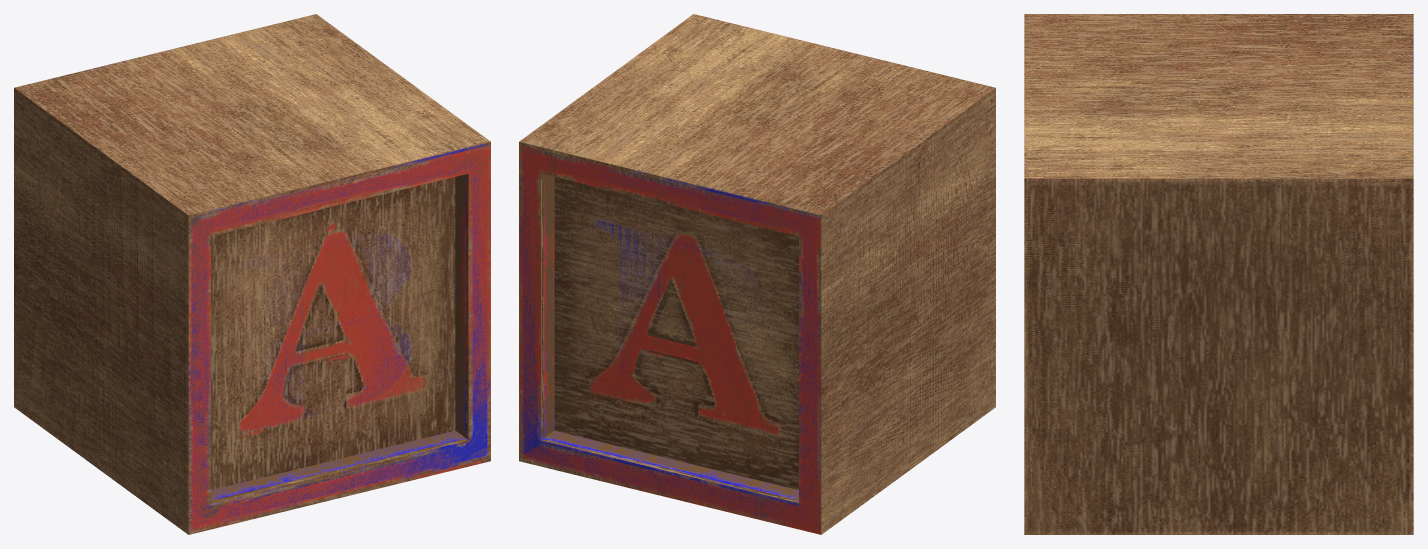
File: Letter Blocks.fbx
3 renders of one model, left to right at view 1: azimuth 30°, elevation 25°; view 2: azimuth 150°, elevation 25°; view 3: azimuth 270°, elevation 25°, orthographic. The views are drawn at different scales.
Visible parts, largest first — view 1: Block A, Block B; view 2: Block A, Block B; view 3: Block B, Block A.
Part boxes in pixels (x1=…): Block A: x1=14, y1=91, x2=490, y2=534; Block B: x1=14, y1=14, x2=490, y2=531; Block A: x1=519, y1=91, x2=995, y2=534; Block B: x1=519, y1=14, x2=995, y2=531; Block B: x1=1024, y1=14, x2=1413, y2=531; Block A: x1=1024, y1=182, x2=1413, y2=534.
Bounding box in the file's own units: 118 × 119 × 118.
1 material, 1 textured.
